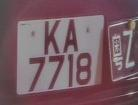1: (65, 52, 77, 90)
7: (24, 53, 49, 96), (45, 52, 67, 92)
8: (74, 51, 94, 87)
A: (63, 17, 83, 56)
K: (41, 17, 63, 58)
